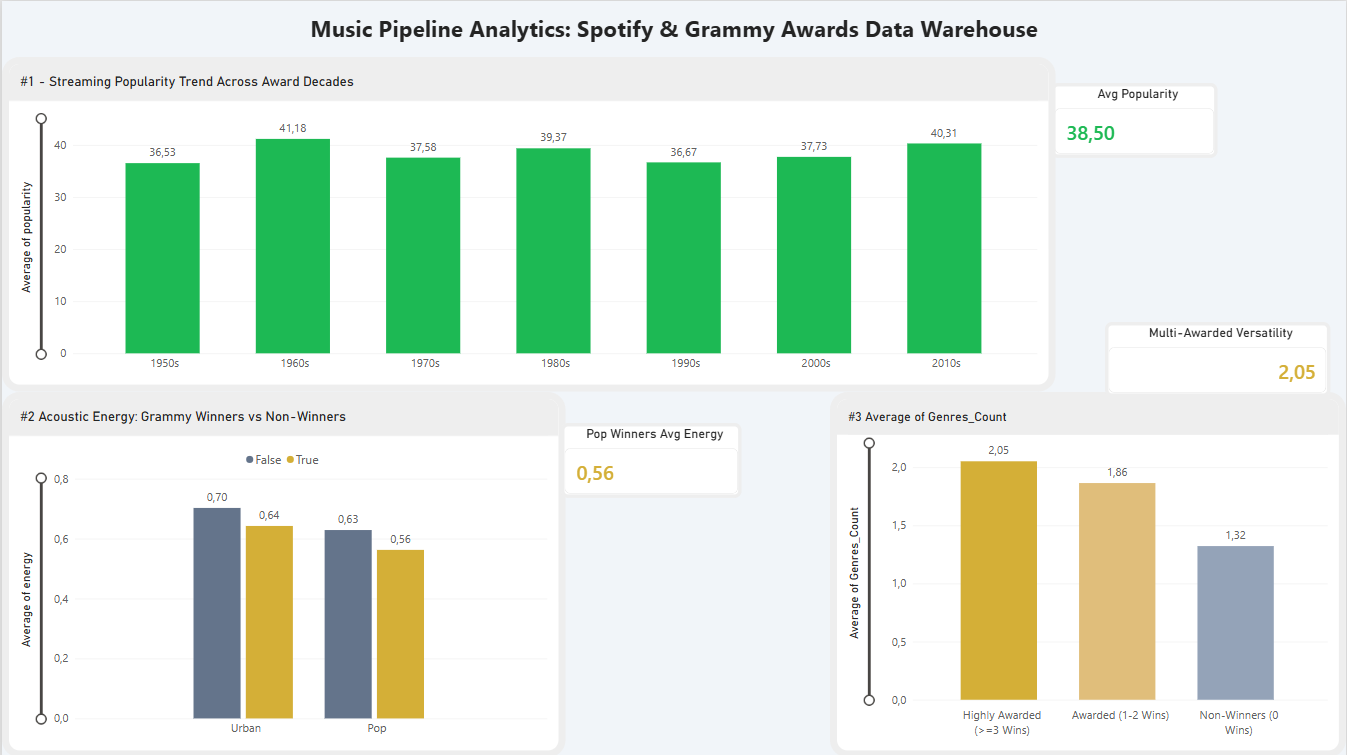

This screenshot's page, from the dashboard's own definition file:
{"tool":"powerbi","page":{"name":"Page 1","canvas":[1920,1080],"ordinal":0},"visuals":[{"type":"textbox","box":[238.3,0,1443.3,80],"z":0},{"type":"cardVisual","title":"Avg Popularity","fields":{"Data":["Avg(fact_track_performance.popularity)"]},"box":[1498.3,116.7,238.3,106.7],"z":1000},{"type":"clusteredColumnChart","title":"#1 - Streaming Popularity Trend Across Award Decades","fields":{"Category":["dim_ceremony_time.decade"],"Y":["Avg(fact_track_performance.popularity)"]},"box":[0,80,1505,478.3],"z":2000},{"type":"clusteredColumnChart","title":"#2 Acoustic Energy: Grammy Winners vs Non-Winners","fields":{"Category":["dim_genre.macro_category"],"Series":["dim_artist.is_grammy_winner"],"Y":["Avg(fact_track_performance.energy)"]},"box":[0,558.3,805,521.7],"z":3000},{"type":"cardVisual","title":"Pop Winners Avg Energy","fields":{"Data":["Avg(fact_track_performance.energy)"]},"box":[798.3,603.3,258.3,106.7],"z":4000},{"type":"clusteredColumnChart","title":"#3 Average of Genres_Count","fields":{"Category":["dim_artist.Award_Tier"],"Y":["Avg(dim_artist.Genres_Count)"]},"box":[1183.3,558.3,736.7,521.7],"z":5000},{"type":"cardVisual","title":"Multi-Awarded Versatility","fields":{"Data":["Avg(dim_artist.Genres_Count)"]},"box":[1575,458.3,321.7,106.7],"z":6000}]}

Visuals, with their boxes in screenshot pixels (x1, y1, x2, y2), scaled from the page's 1920x1080 canvas onto the 1347x755 screenshot:
textbox: (167,0,1180,56)
"Avg Popularity" cardVisual: (1051,82,1218,156)
"#1 - Streaming Popularity Trend Across Award Decades" clusteredColumnChart: (0,56,1056,390)
"#2 Acoustic Energy: Grammy Winners vs Non-Winners" clusteredColumnChart: (0,390,565,754)
"Pop Winners Avg Energy" cardVisual: (560,422,741,496)
"#3 Average of Genres_Count" clusteredColumnChart: (830,390,1346,754)
"Multi-Awarded Versatility" cardVisual: (1105,320,1331,395)
